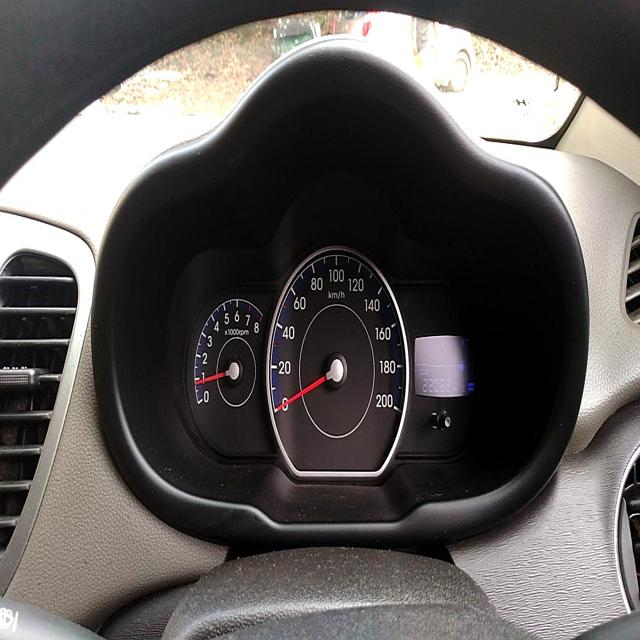odometer: (419, 376, 453, 397)
